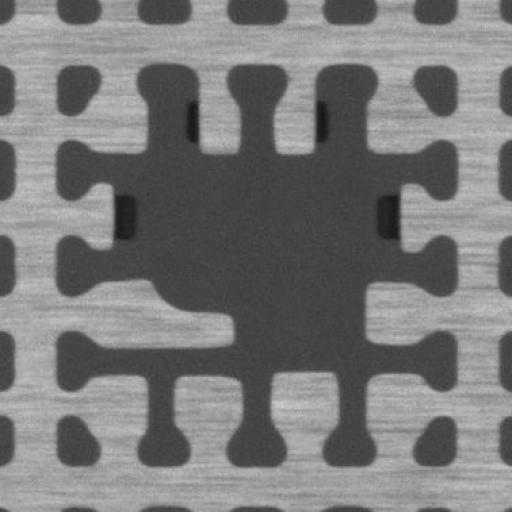NO_DIE: (55, 65, 462, 459)
